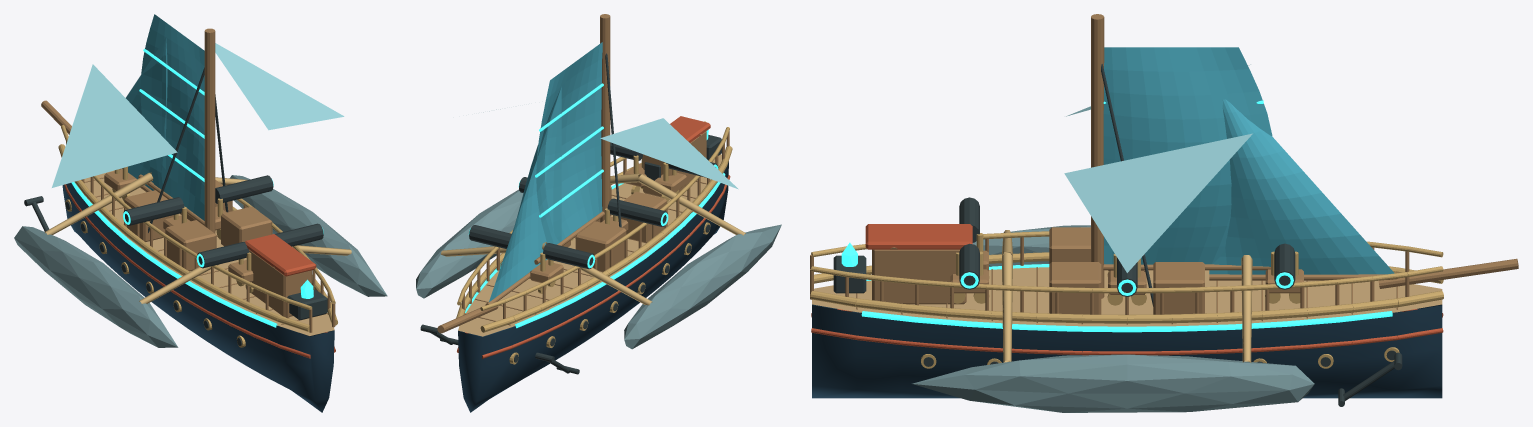
File: ship_combat_cutter.glb
3 renders of one model, left to right at view 1: azimuth 30°, elevation 25°; view 2: azimuth 150°, elevation 25°; view 3: azimuth 270°, elevation 25°, orthographic. The views are drawn at different scales.
Visible parts, largest first — view 1: ship_combat_cutter; view 2: ship_combat_cutter; view 3: ship_combat_cutter.
Boxes of the visible parts, x1=… form: ship_combat_cutter: x1=14, y1=14, x2=387, y2=412; ship_combat_cutter: x1=416, y1=14, x2=781, y2=412; ship_combat_cutter: x1=810, y1=14, x2=1518, y2=412.
Bounding box in the file's own units: 5.8 × 5.68 × 9.56.
